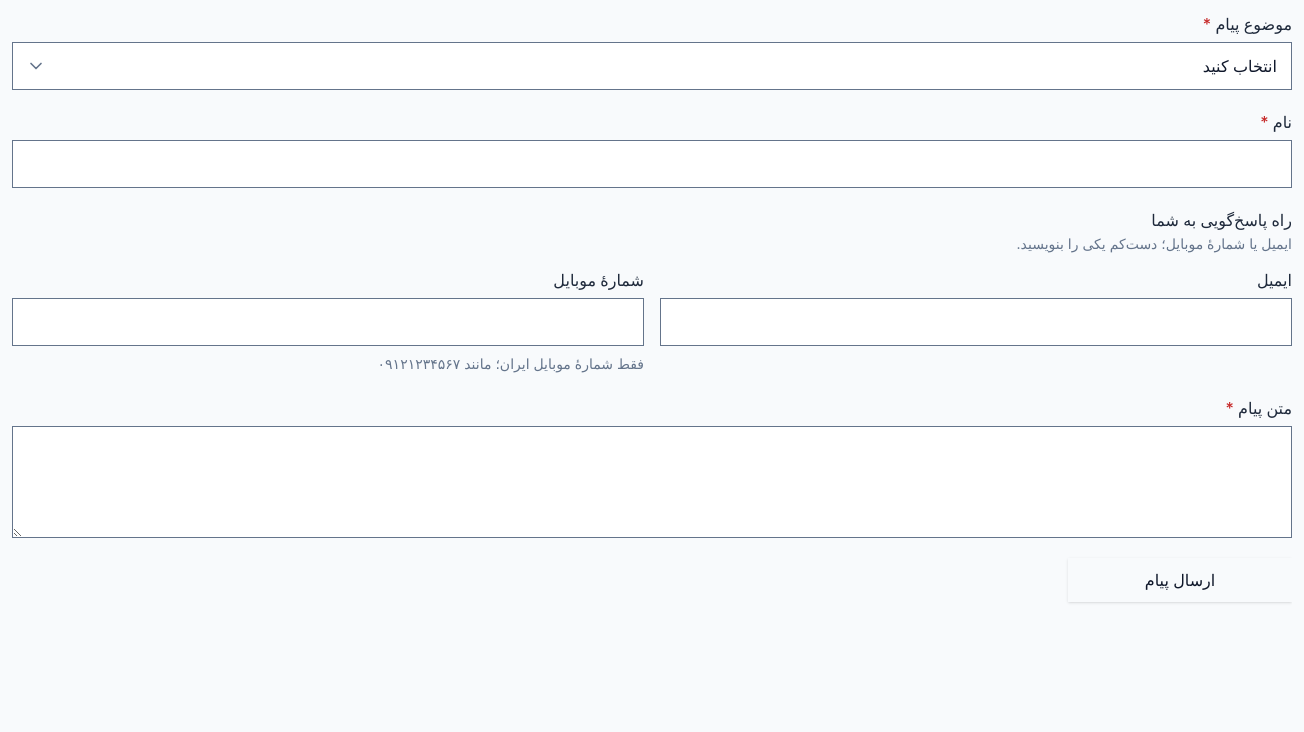
Scenario: the API’s refusals, where they belong › a parse_error, a 413 or no connection: one alert above the button
Select "انتقاد و شکایت" in the dropdown labelled "موضوع پیام *" at (652, 66), box [12,42,1292,90]
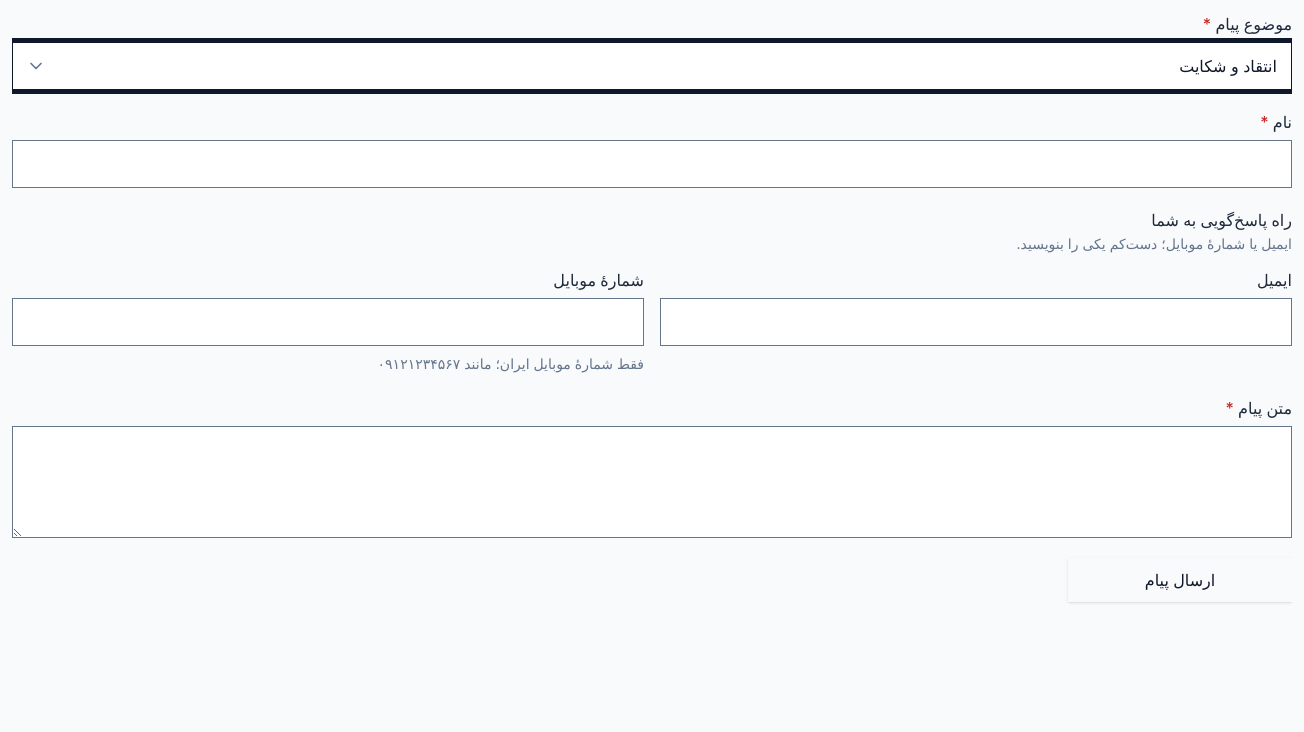
Type "سارا احمدی" into the field labelled "نام *" at (652, 164), box [13,141,1291,187]
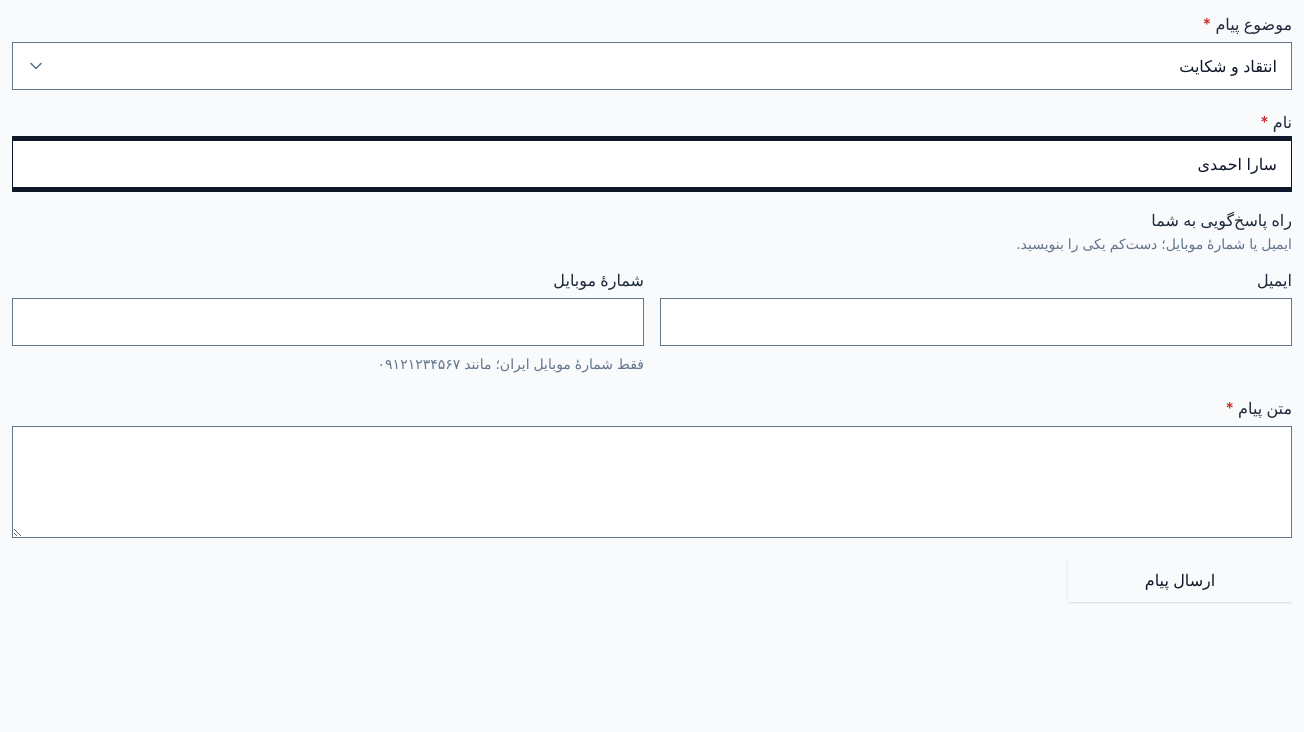
Type "۰۹۱۲ ۱۲۳ ۴۵۶۷" into the field labelled "شمارهٔ موبایل" at (328, 322), box [13,299,643,345]
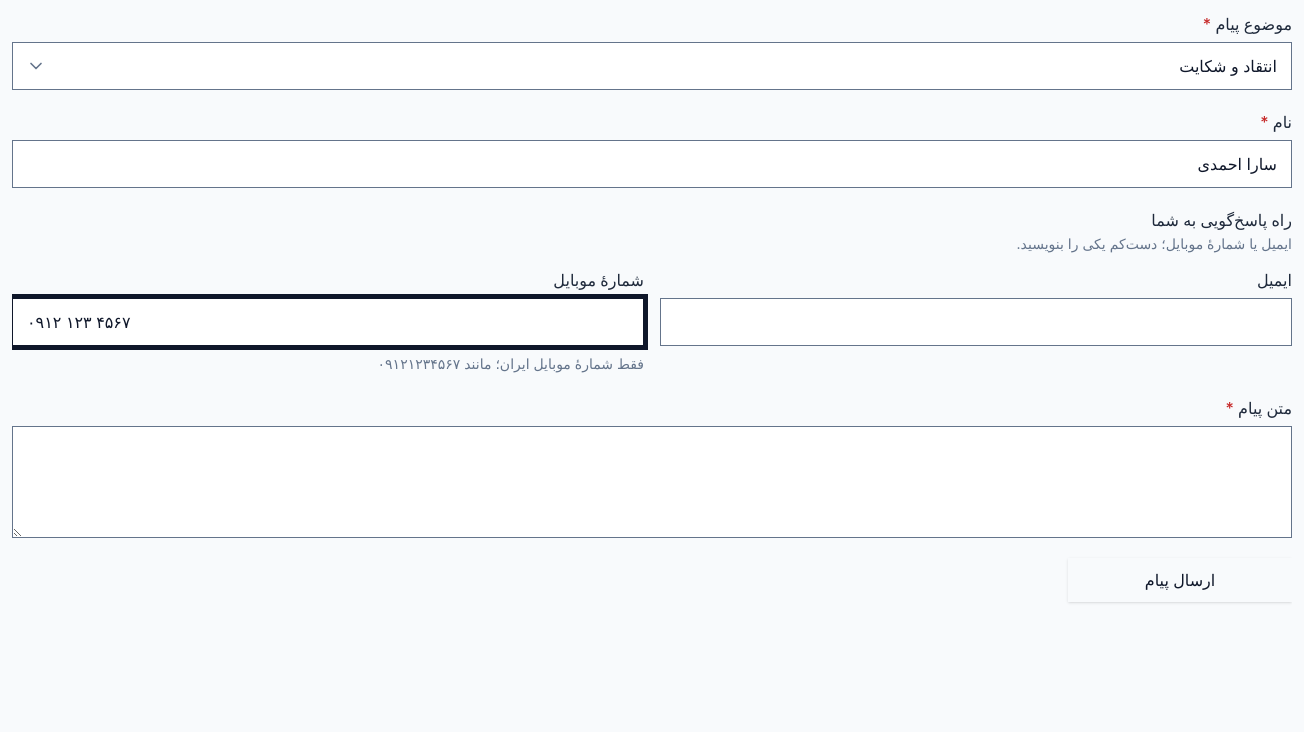
Type "سفارش ۸۴۹۲۳۷۰ هنوز نرسیده است." into the text box labelled "متن پیام *" at (652, 482), box [12,426,1292,538]
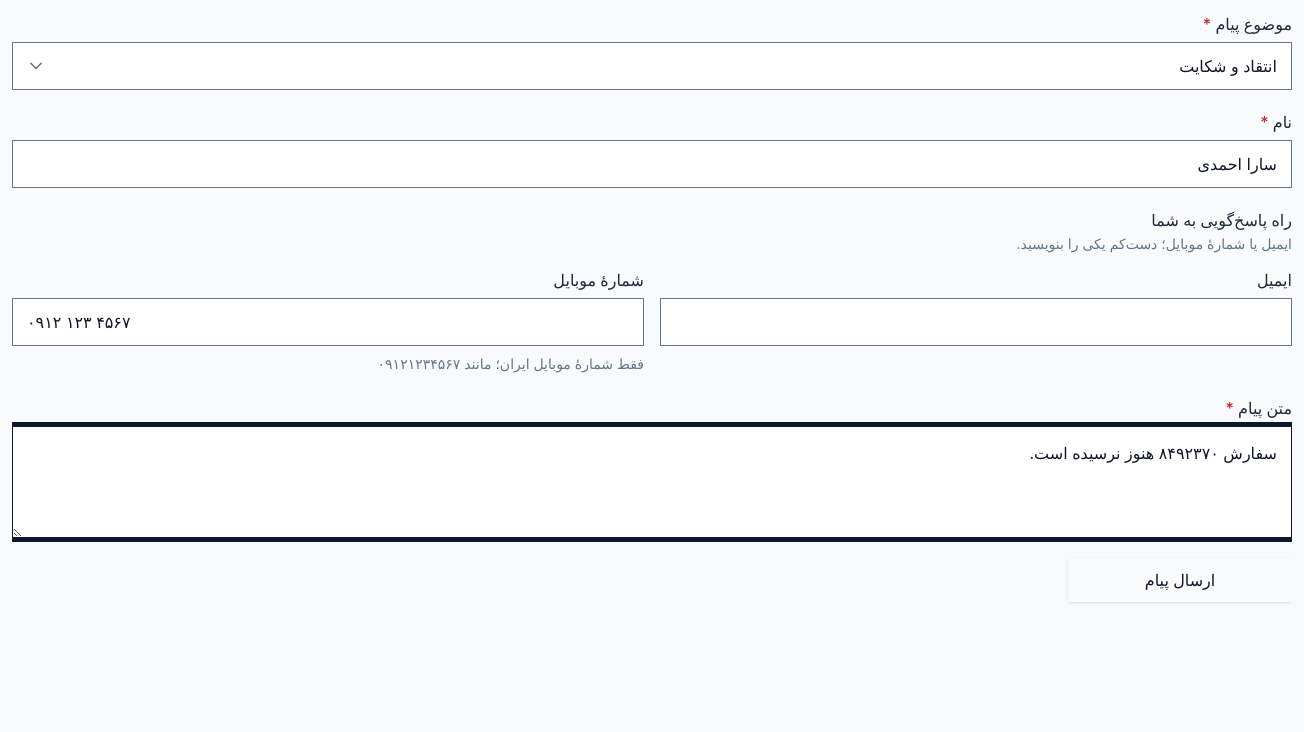
Click the button "ارسال پیام" at (1180, 580), box [1068,558,1292,602]
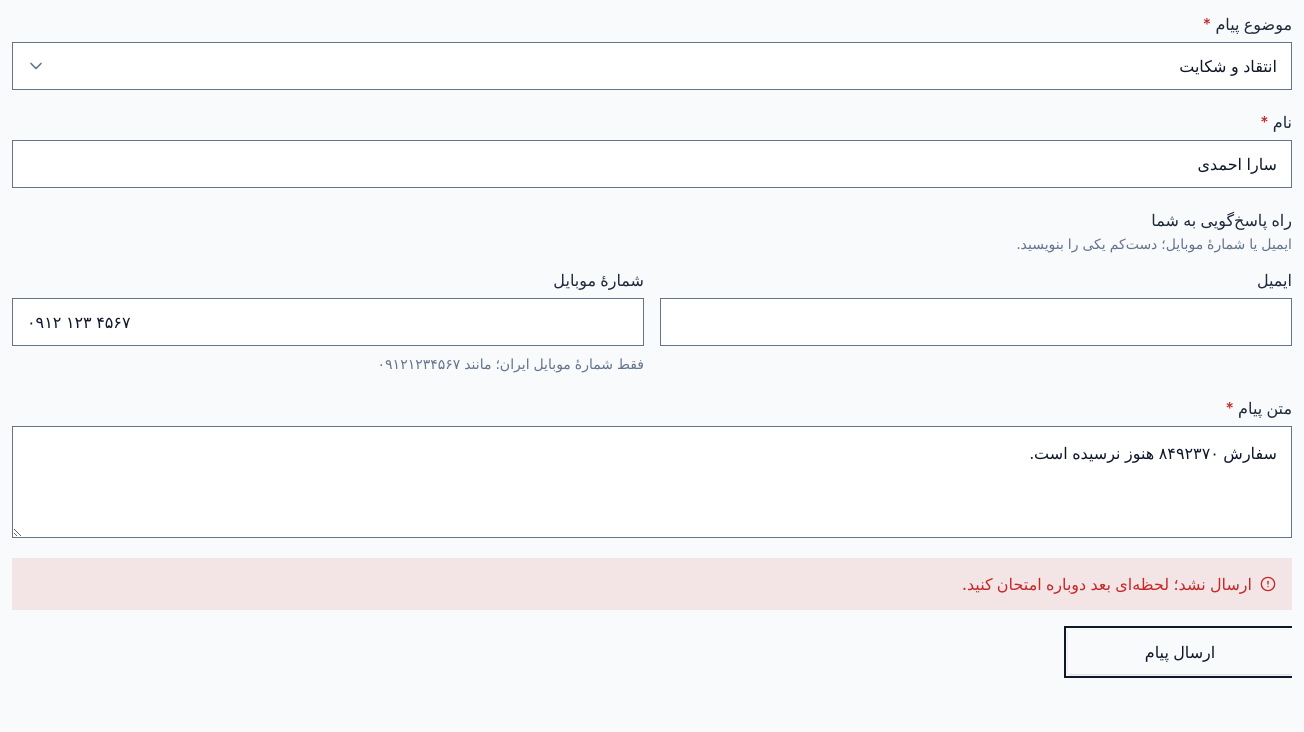
Check: the message shows "ارسال نشد", box [962,574,1252,594]
